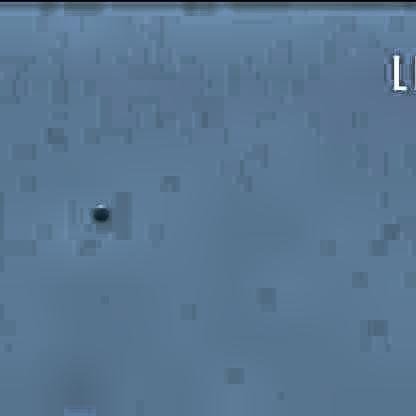golfball: (89, 199, 108, 221)
